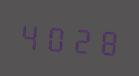eight: (93, 21, 117, 59)
four: (18, 16, 42, 54)
two: (68, 19, 92, 57)
zero: (43, 18, 67, 55)
